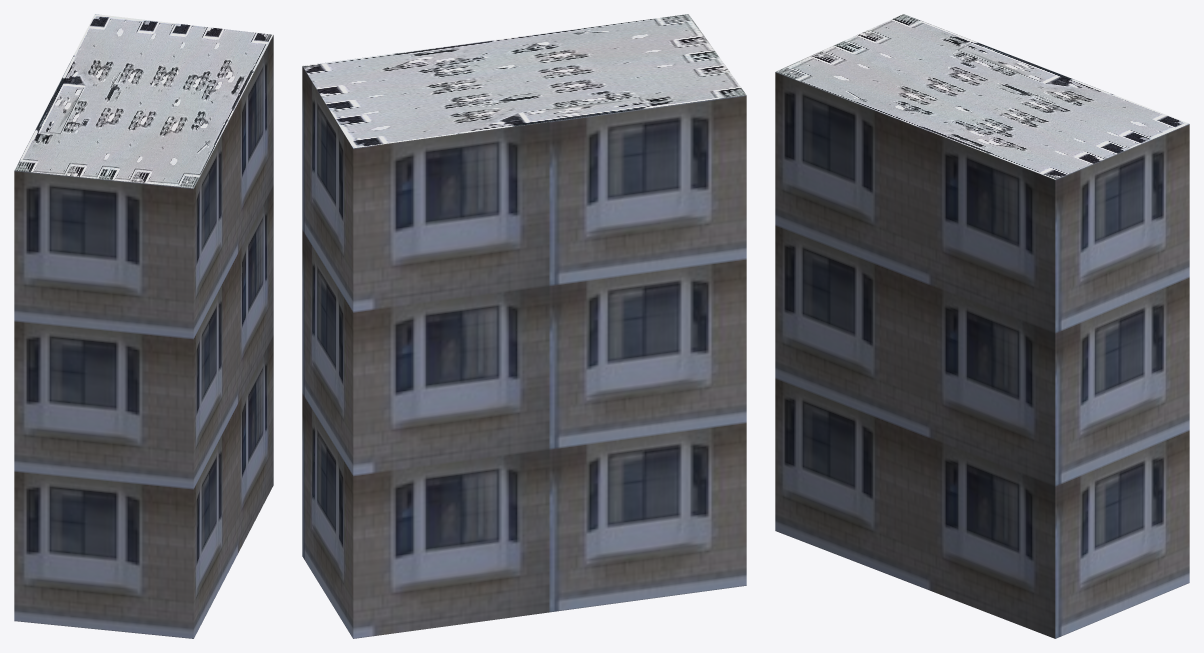
The model's file is ResTex__3150.fbx.
The picture shows the model from 3 angles, left to right: view 1: azimuth 30°, elevation 25°; view 2: azimuth 150°, elevation 25°; view 3: azimuth 270°, elevation 25°; orthographic projection. The views are drawn at different scales.
Parts seen in each view (by area): view 1: CityEngineMaterial_3_m, CityEngineMaterial_4_m; view 2: CityEngineMaterial_3_m, CityEngineMaterial_4_m; view 3: CityEngineMaterial_3_m, CityEngineMaterial_4_m.
Part boxes in pixels (x1=…): CityEngineMaterial_3_m: x1=14, y1=35, x2=273, y2=638; CityEngineMaterial_4_m: x1=14, y1=14, x2=273, y2=188; CityEngineMaterial_3_m: x1=302, y1=66, x2=746, y2=638; CityEngineMaterial_4_m: x1=302, y1=14, x2=746, y2=148; CityEngineMaterial_3_m: x1=775, y1=72, x2=1189, y2=638; CityEngineMaterial_4_m: x1=775, y1=14, x2=1189, y2=179.
Bounding box in the file's own units: 6.97 × 9 × 7.37.
Materials: 2 (2 with a texture image).
